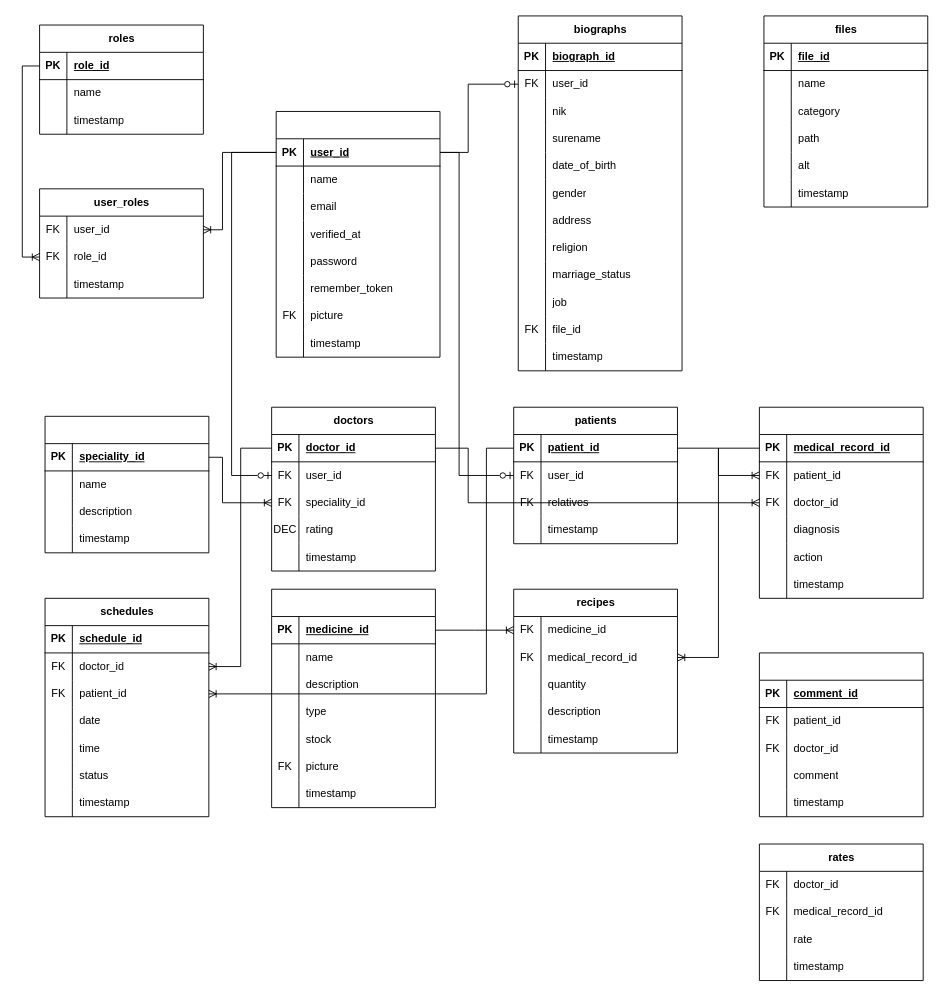
This 944x996 diagram has some shape labels left out. Each missing label, with the box of its shape:
comments: (758, 652, 923, 817)
medical_records: (758, 406, 923, 598)
medicines: (271, 588, 435, 808)
specialities: (44, 415, 209, 553)
users: (275, 111, 440, 357)
